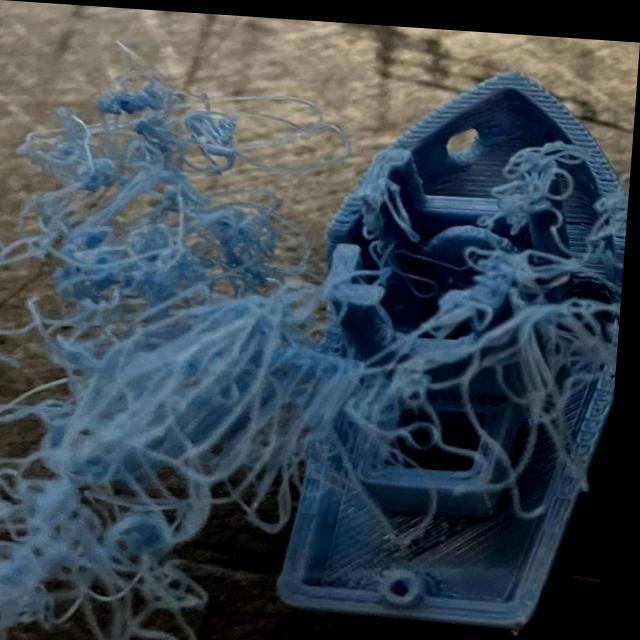spaghetti: (101, 299, 326, 484), (34, 80, 226, 292), (1, 471, 213, 640), (469, 256, 610, 411), (367, 331, 450, 443), (496, 133, 597, 218), (216, 200, 305, 296)
